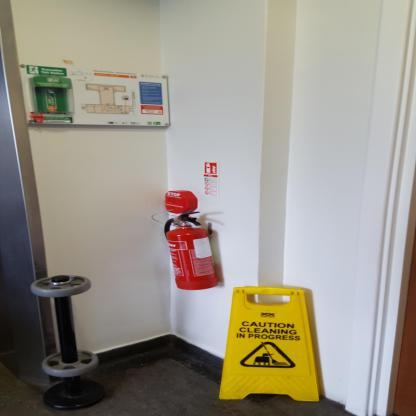Fire Extinguisher: (153, 193, 232, 297)
